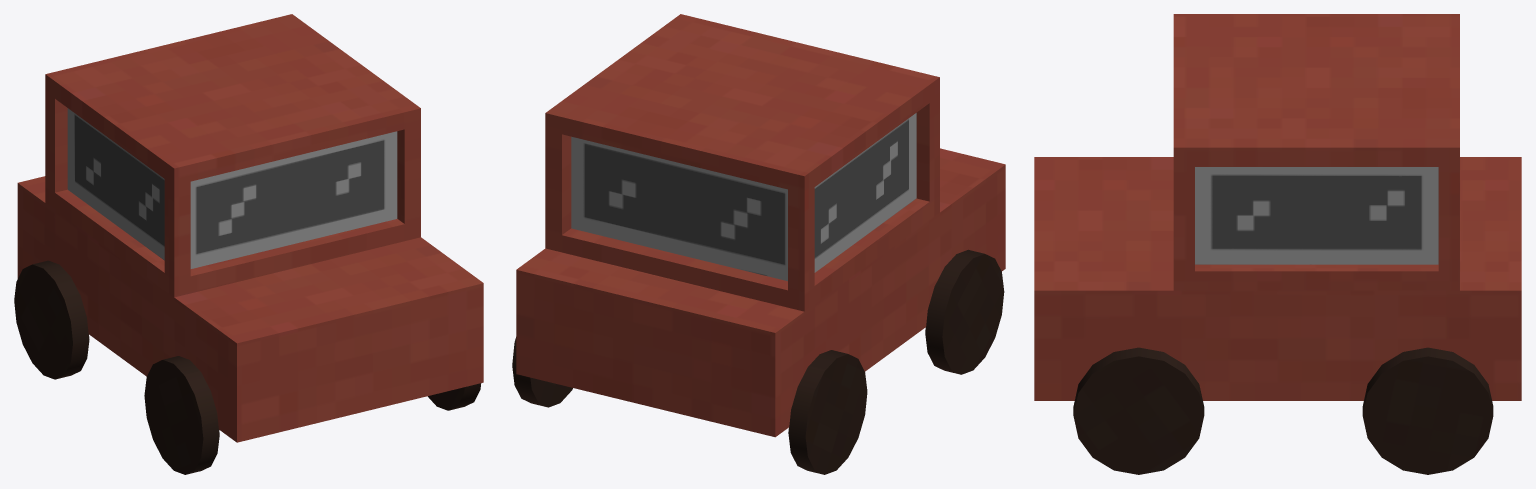
The model's file is Car 1.fbx.
3 renders of one model, left to right at view 1: azimuth 30°, elevation 25°; view 2: azimuth 150°, elevation 25°; view 3: azimuth 270°, elevation 25°, orthographic. The views are drawn at different scales.
Visible parts, largest first — view 1: Car 1; view 2: Car 1; view 3: Car 1.
Boxes of the visible parts, bbox=[...] form: Car 1: bbox=[14, 14, 483, 474]; Car 1: bbox=[512, 14, 1005, 474]; Car 1: bbox=[1034, 14, 1521, 474].
Bounding box in the file's own units: 226 × 222 × 308.
